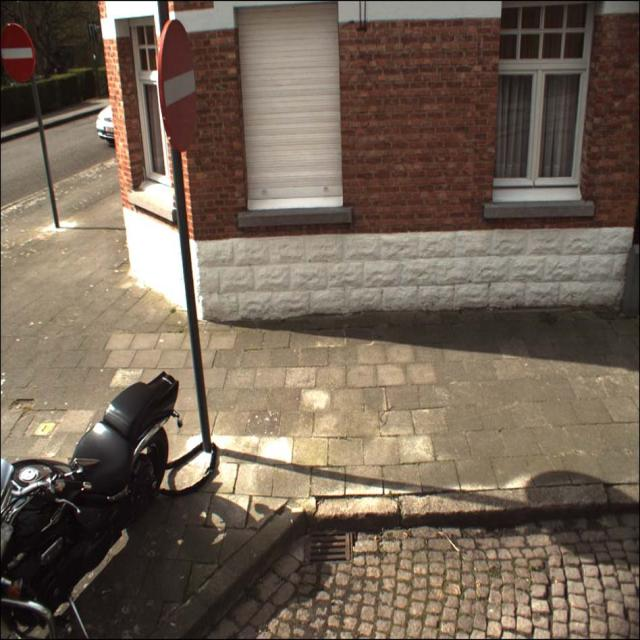girisyok: (159, 20, 198, 151), (1, 23, 35, 85)
